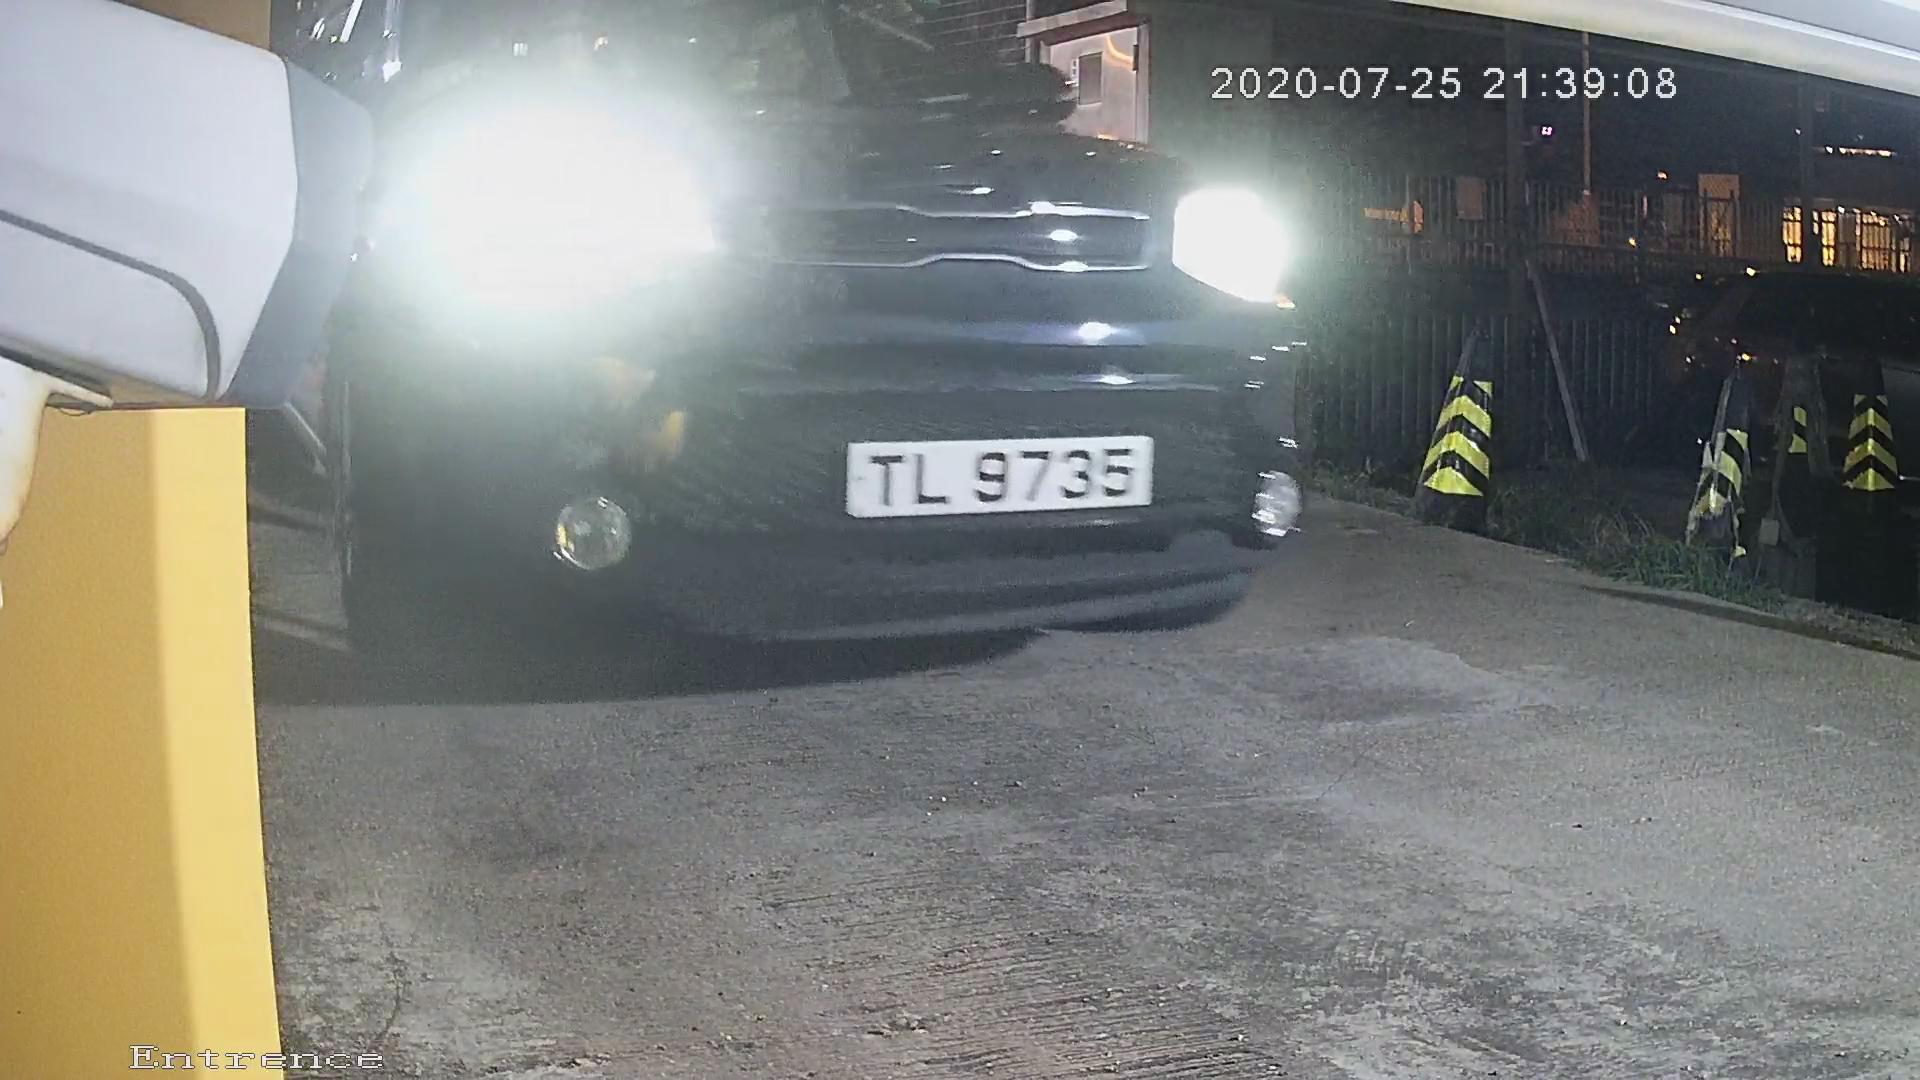Car: (69, 1, 1466, 704)
License Plate: (823, 420, 1166, 521)
